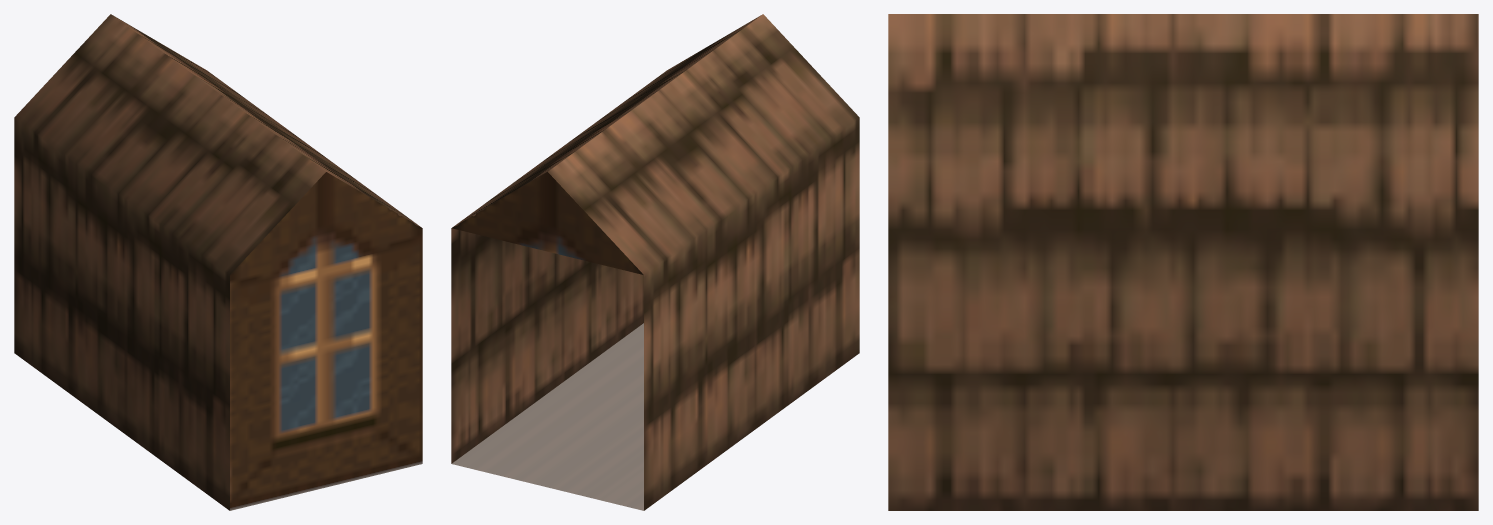
Rendered from lookout_window_01.fbx.
3 views of the same model, side by side, from view 1: azimuth 30°, elevation 25°; view 2: azimuth 150°, elevation 25°; view 3: azimuth 270°, elevation 25° (orthographic). The views are drawn at different scales.
Parts seen in each view (by area): view 1: lookout_window_01_export; view 2: lookout_window_01_export; view 3: lookout_window_01_export.
Boxes of the visible parts, box(x1,y1,x2,y2) form: lookout_window_01_export: box(14, 14, 422, 510); lookout_window_01_export: box(451, 14, 859, 510); lookout_window_01_export: box(888, 14, 1478, 510).
Size of the model in its own units: 25.15 by 39.39 by 48.73.
Materials: 1 (1 with a texture image).
